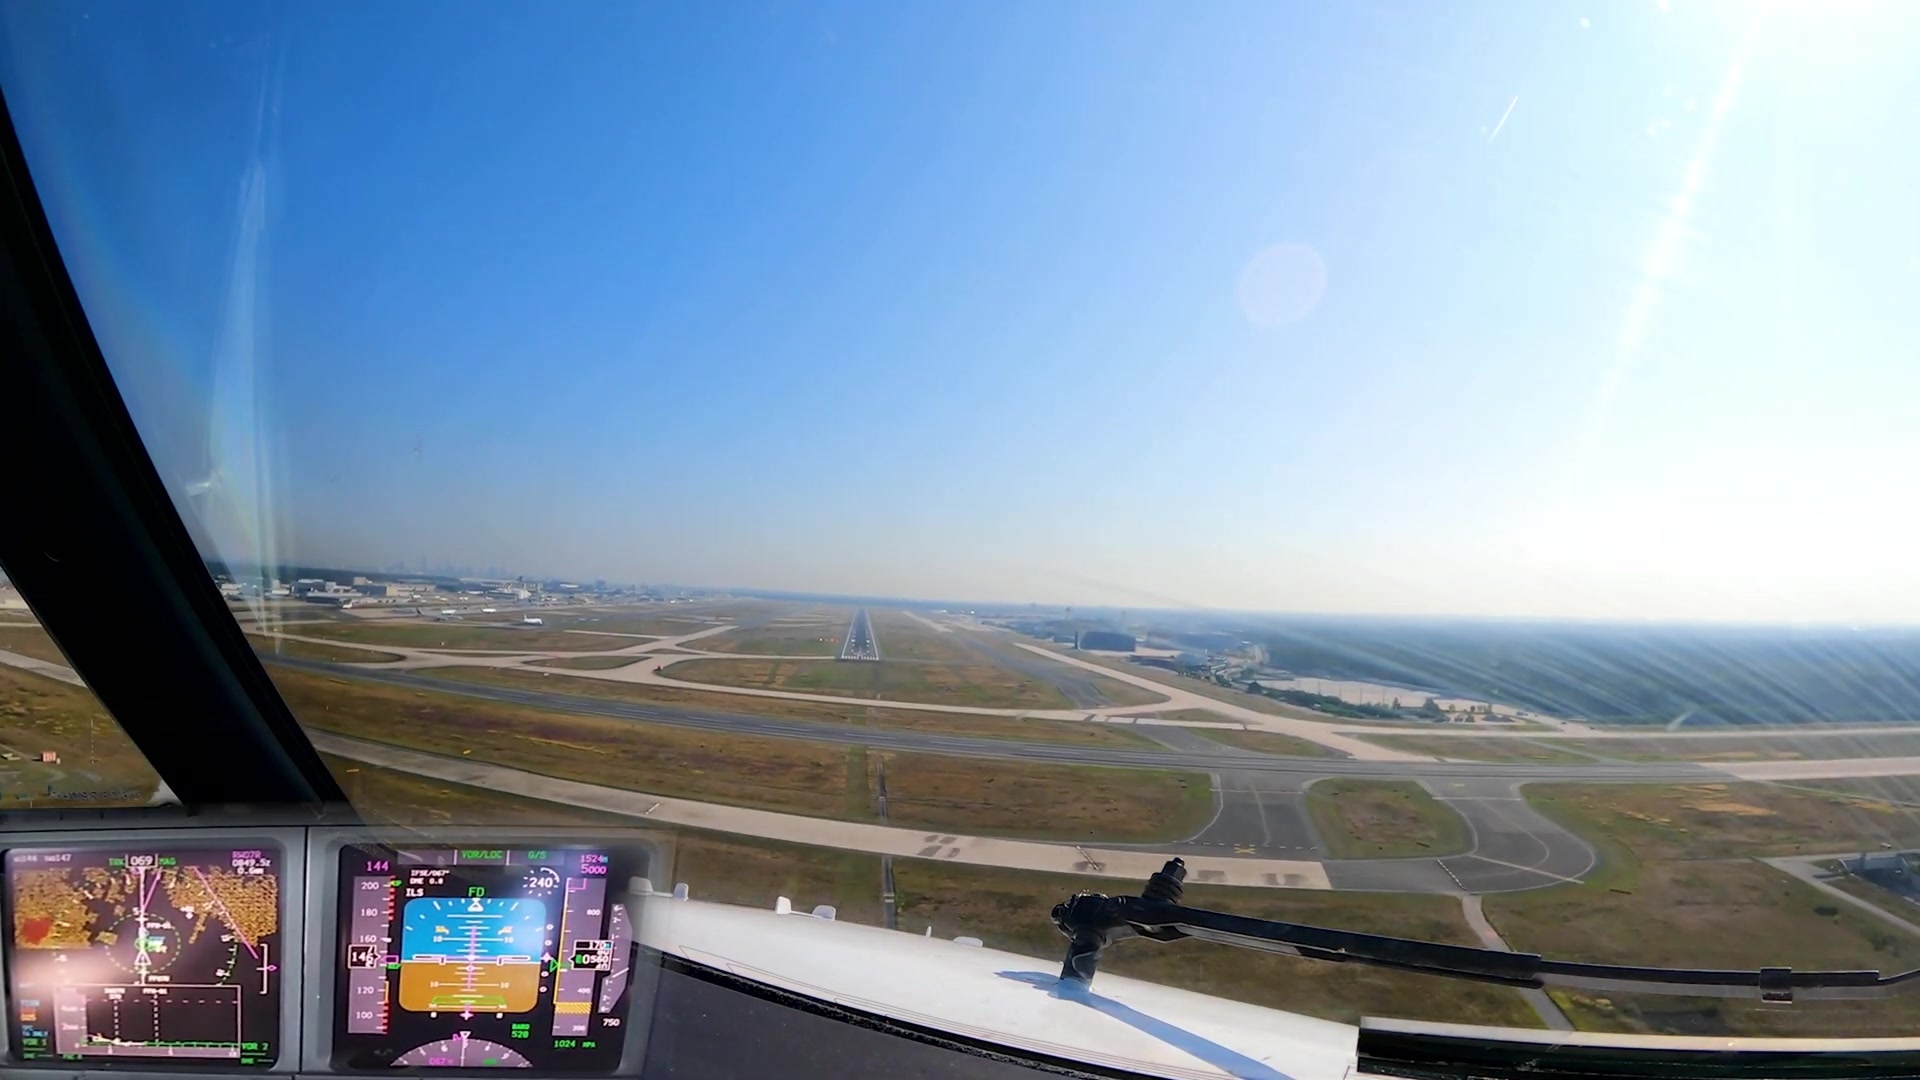entrance: (841, 653, 878, 661)
runway: (836, 603, 884, 662)
